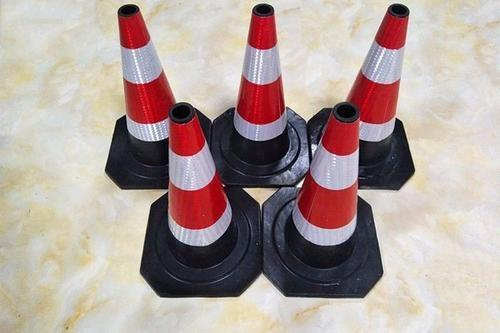cone_barrel: (100, 6, 187, 185), (156, 100, 244, 274), (283, 102, 372, 272), (338, 7, 419, 182), (218, 7, 301, 169)
